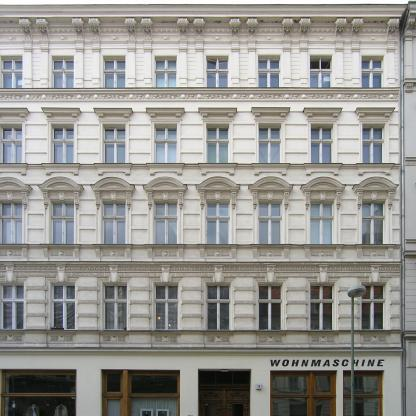Building Outline: (0, 4, 408, 416)
Cornice: (35, 176, 86, 211), (351, 176, 400, 210), (248, 175, 295, 210), (89, 176, 137, 210), (300, 176, 348, 210), (195, 175, 241, 210), (142, 176, 188, 210), (0, 176, 33, 210), (250, 106, 291, 119), (354, 107, 397, 119), (92, 107, 134, 119), (302, 107, 344, 119), (41, 107, 82, 119), (197, 107, 238, 119), (145, 107, 185, 119), (0, 107, 31, 119), (313, 272, 334, 283), (0, 271, 20, 282), (365, 272, 385, 283), (156, 272, 176, 283), (104, 272, 124, 283), (209, 272, 229, 283), (261, 272, 281, 283), (52, 272, 72, 282)
Door: (198, 385, 250, 416)
Facade: (0, 4, 408, 415)
Floor: (0, 272, 403, 348), (0, 185, 403, 261), (0, 109, 403, 178)
Floor Slab: (0, 178, 403, 186), (0, 101, 403, 109), (0, 348, 403, 355), (0, 261, 403, 268)
Ground Floor: (0, 356, 403, 416)
Molding: (0, 90, 400, 102), (1, 26, 401, 35), (0, 40, 400, 49), (0, 348, 403, 355), (0, 265, 401, 272)
Shop: (101, 370, 180, 416), (1, 369, 77, 416), (271, 370, 338, 416), (343, 370, 385, 416), (269, 359, 385, 367)
Sill: (301, 244, 346, 262), (353, 244, 397, 262), (249, 244, 293, 262), (144, 244, 187, 262), (197, 244, 240, 262), (91, 244, 134, 261), (39, 244, 82, 261), (250, 163, 291, 176), (197, 163, 238, 176), (145, 163, 186, 176), (0, 244, 31, 261), (355, 163, 395, 176), (93, 163, 133, 176), (41, 163, 81, 176), (302, 163, 342, 176), (0, 163, 29, 176)
Top Floor: (0, 17, 403, 102)
Window: (258, 283, 283, 330), (362, 282, 386, 330), (51, 282, 75, 330), (103, 282, 127, 330), (155, 283, 179, 330), (206, 283, 230, 330), (310, 283, 334, 330), (0, 282, 24, 329), (101, 199, 126, 244), (153, 199, 178, 244), (206, 199, 231, 244), (259, 199, 284, 244), (310, 199, 335, 244), (362, 199, 387, 244), (50, 199, 74, 244), (0, 199, 22, 244), (258, 123, 282, 163), (206, 123, 230, 163), (362, 124, 386, 163), (310, 124, 334, 163), (154, 123, 177, 163), (102, 123, 125, 163), (51, 123, 74, 163), (0, 123, 22, 163), (0, 56, 23, 88), (362, 56, 385, 88), (51, 56, 74, 88), (103, 56, 126, 88), (206, 55, 229, 87), (258, 56, 281, 88), (310, 56, 333, 88), (198, 372, 250, 386), (155, 56, 177, 87)
